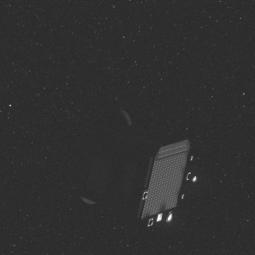proba_3_ocs: (76, 95, 204, 232)
